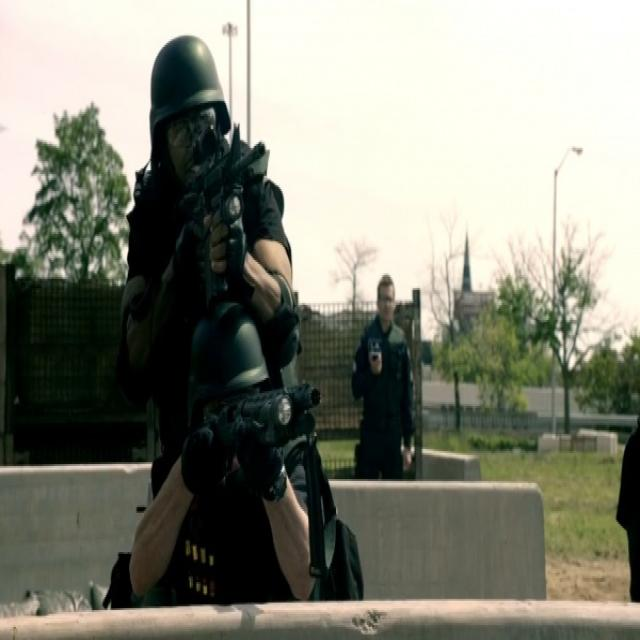rifle: (182, 119, 270, 268), (203, 377, 336, 448)
